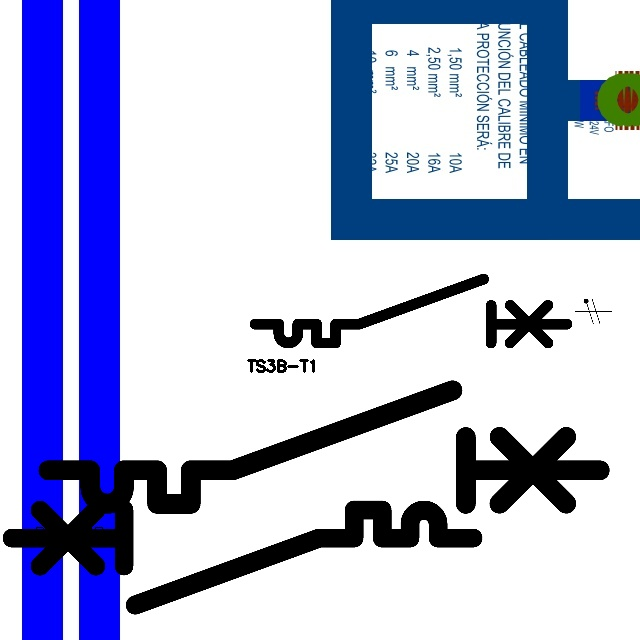interruptor_termomagnetico: (34, 376, 614, 518), (0, 498, 485, 616), (247, 271, 575, 351)
